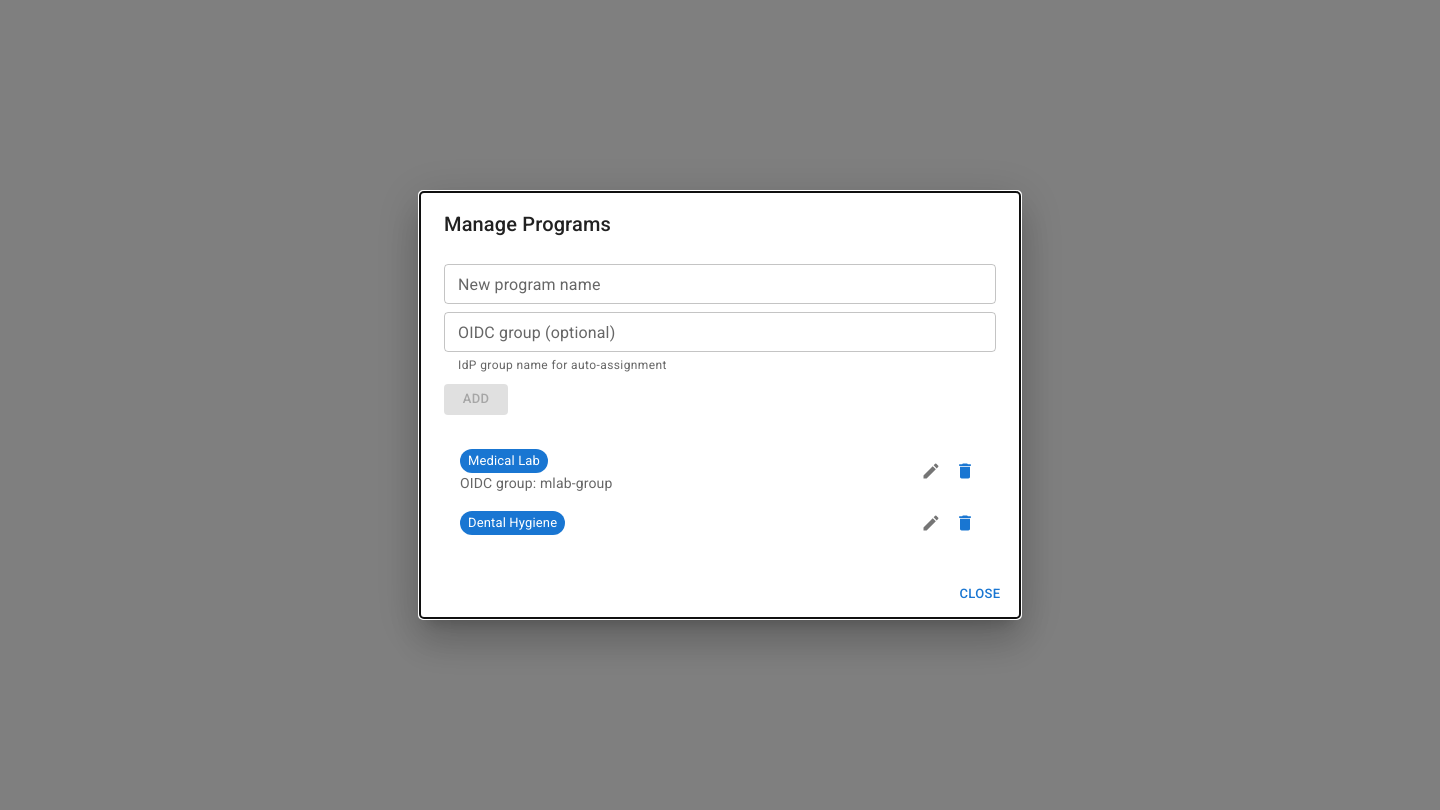
Test: ProgramManagementModal › cancels edit mode
The width and height of the screenshot is (1440, 810).
Click the button named "edit program" in the row of "Medical Lab" at (931, 471), box [916,456,946,486]
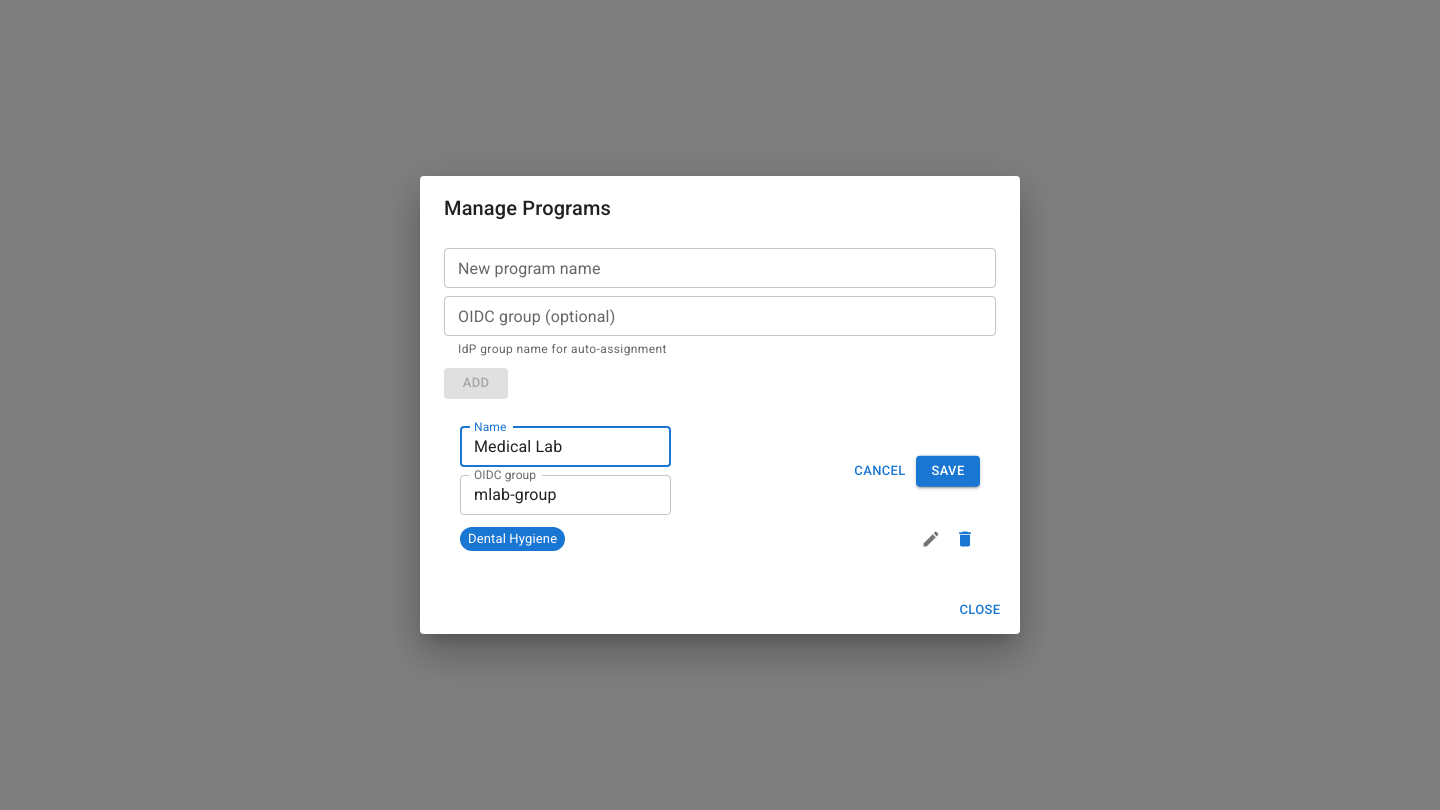
Click the button "Cancel" at (880, 471), box [848,456,912,486]
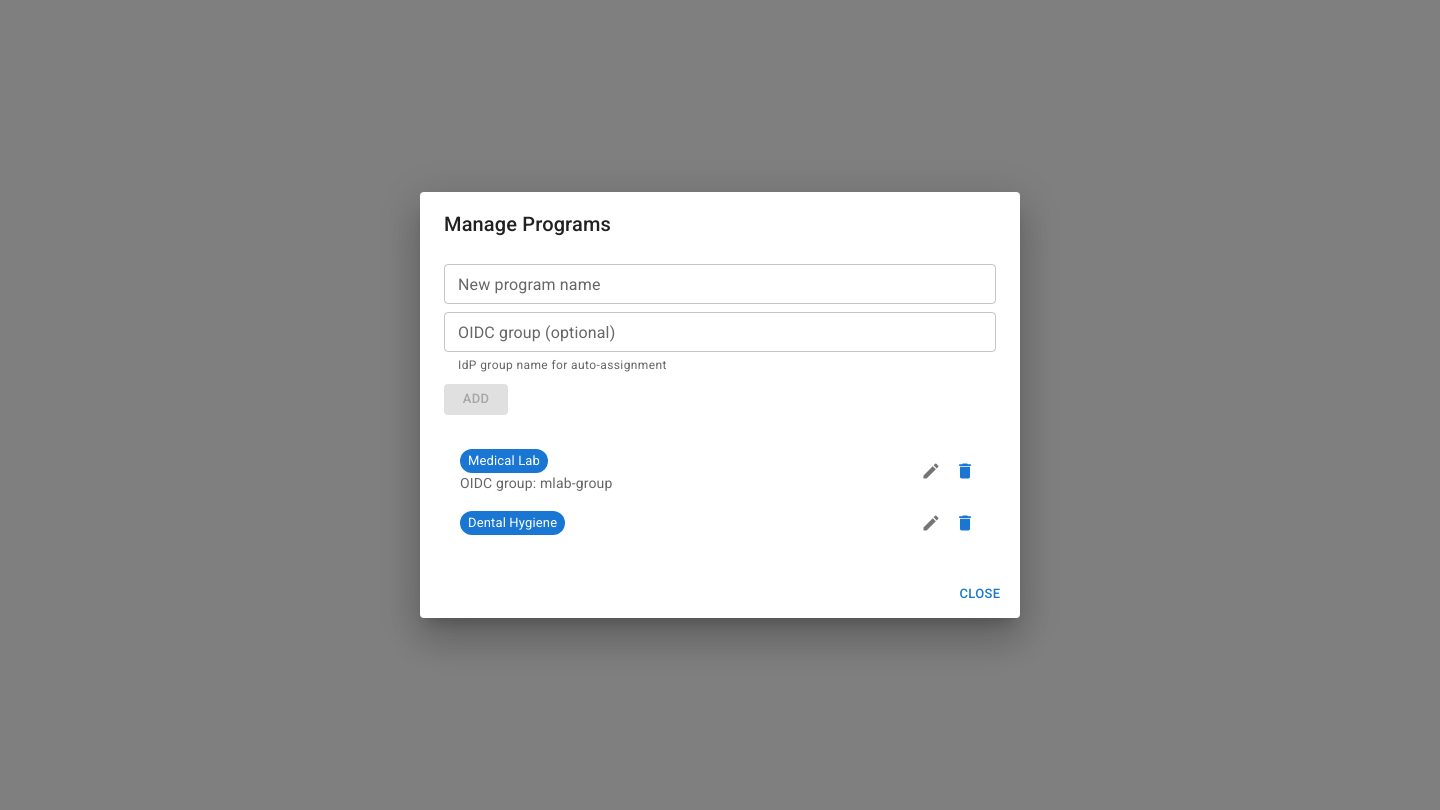
Check: the text "Medical Lab" is shown, box [468,453,540,468]
